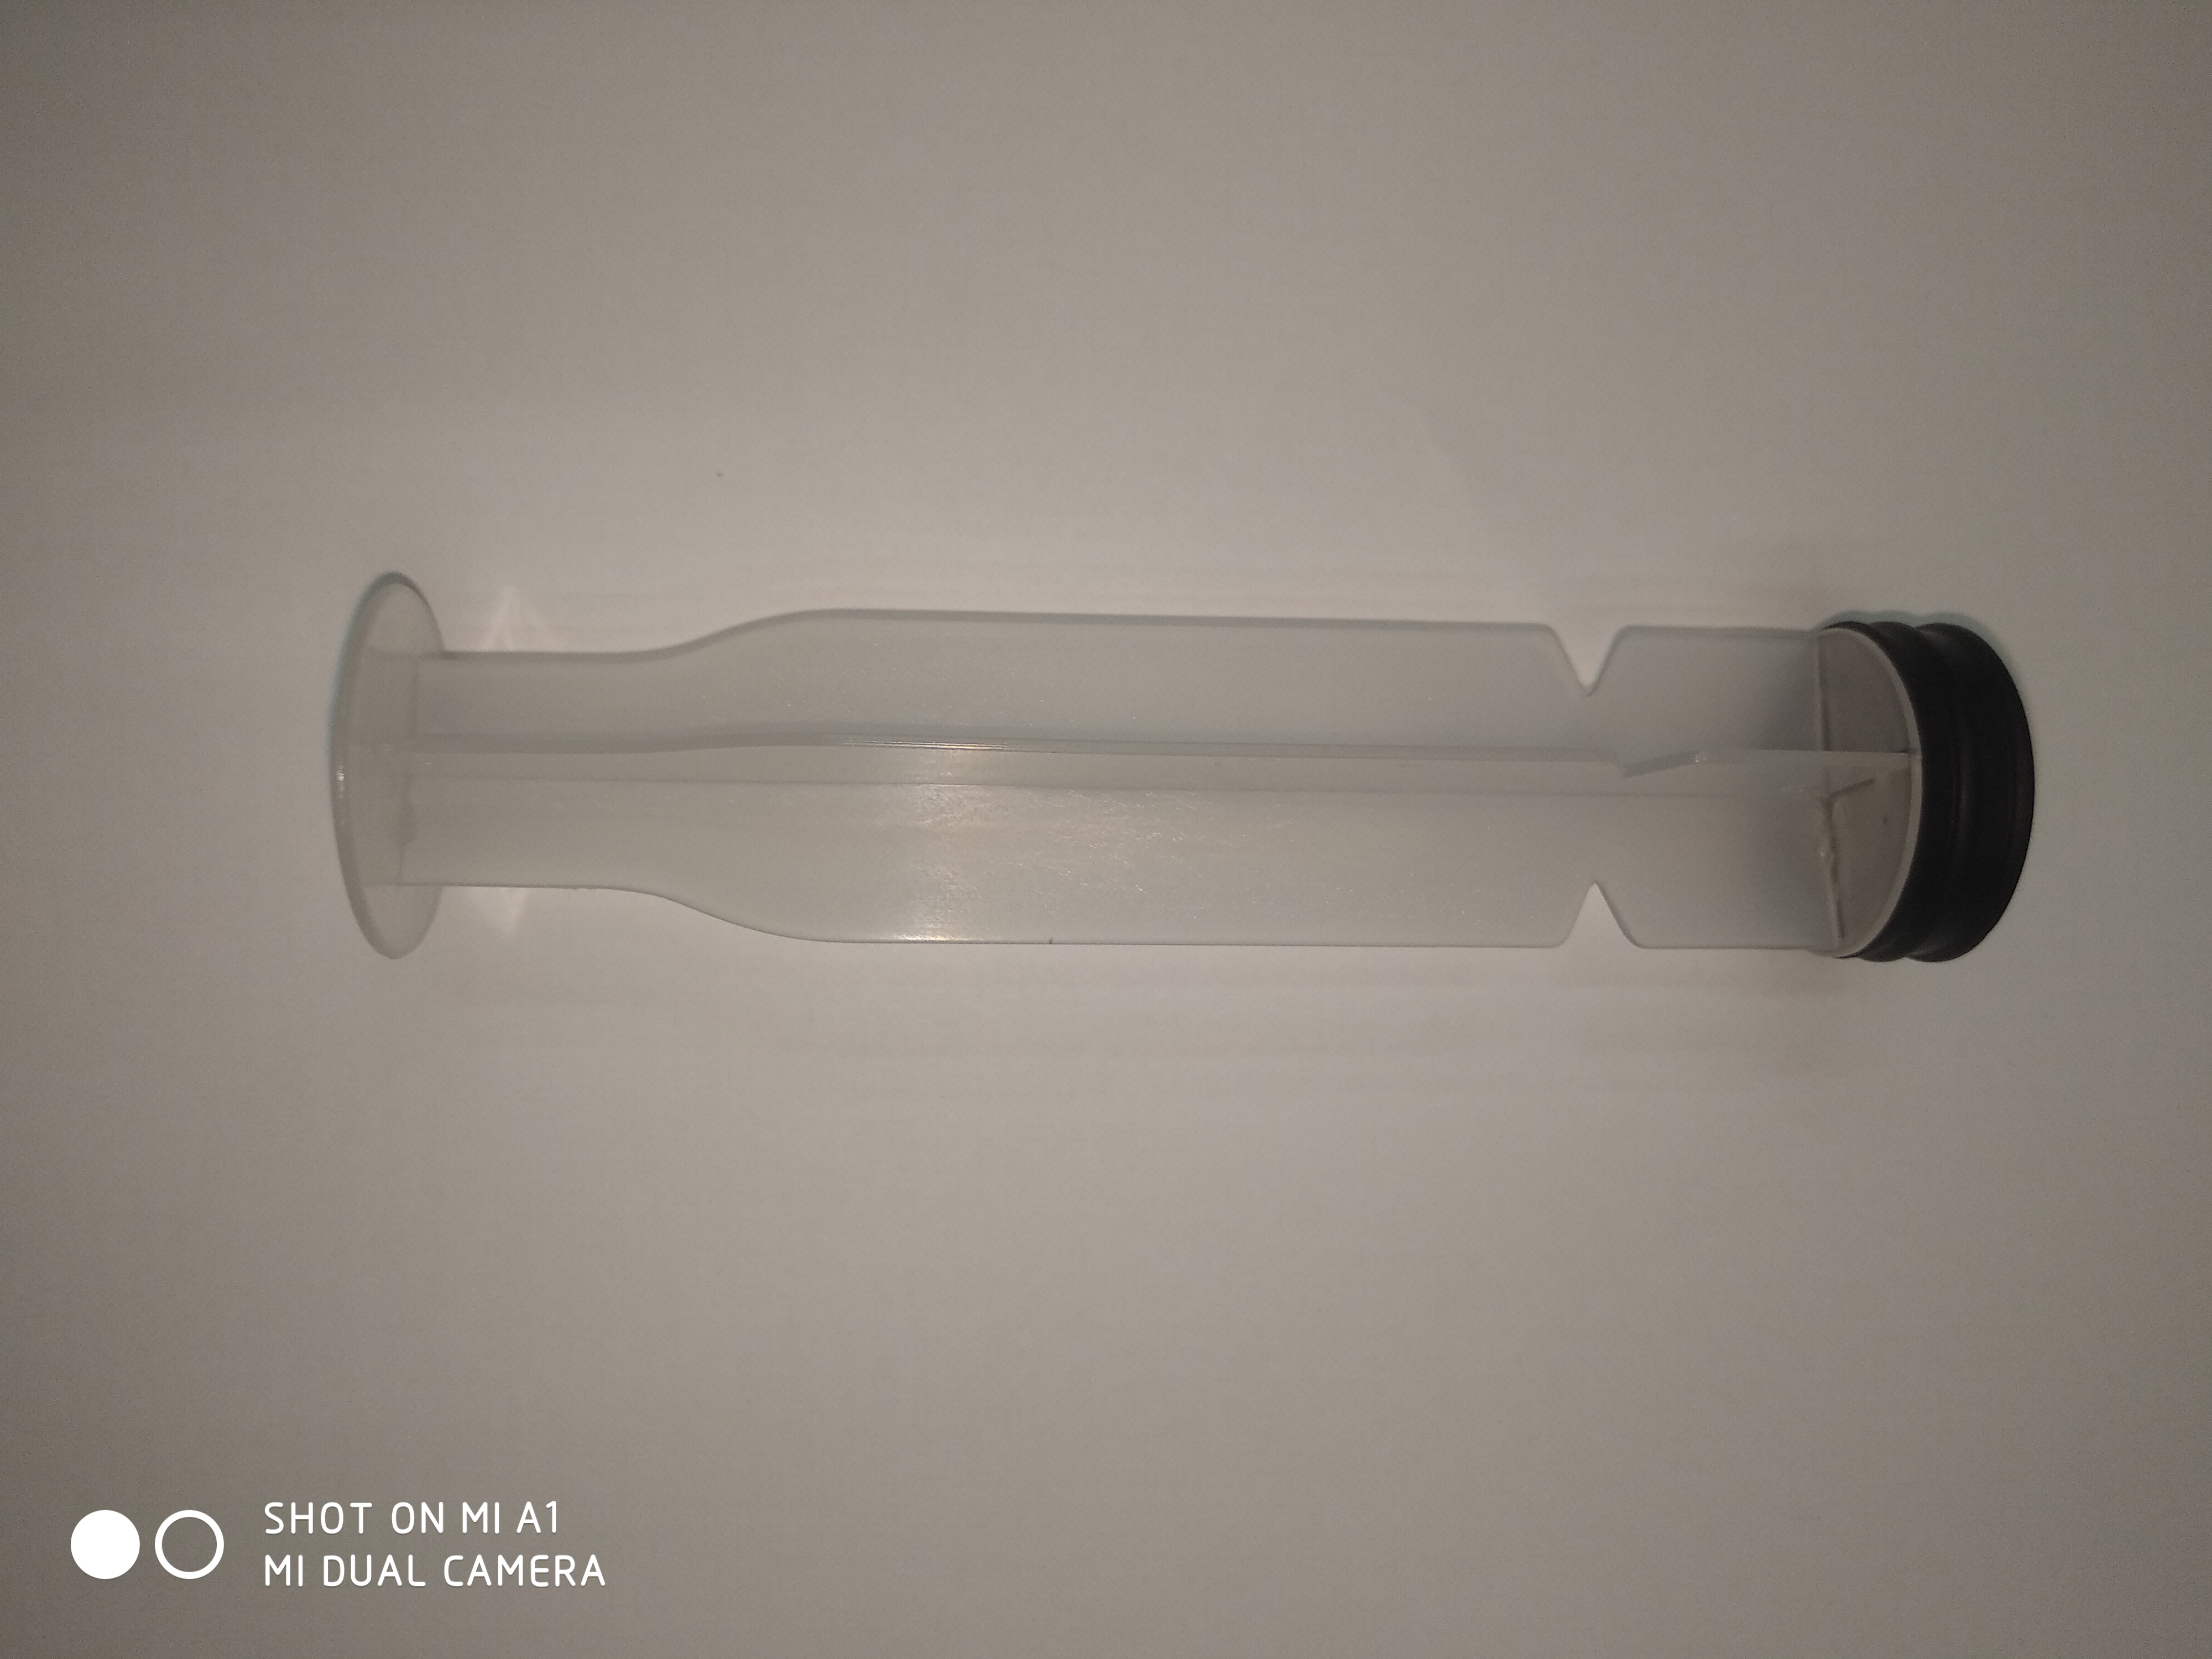plunger: (324, 566, 2031, 978)
